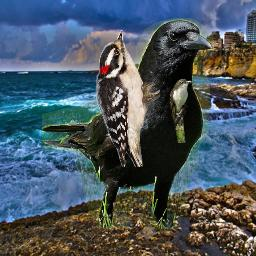Crow: (42, 18, 214, 229)
Cuckoo: (170, 77, 192, 143)
Woodpecker: (96, 30, 160, 167)
